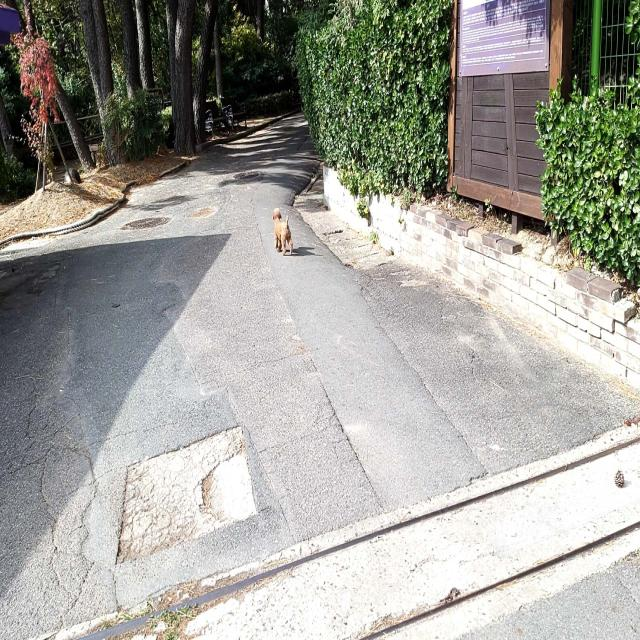Dog: (273, 205, 293, 255)
